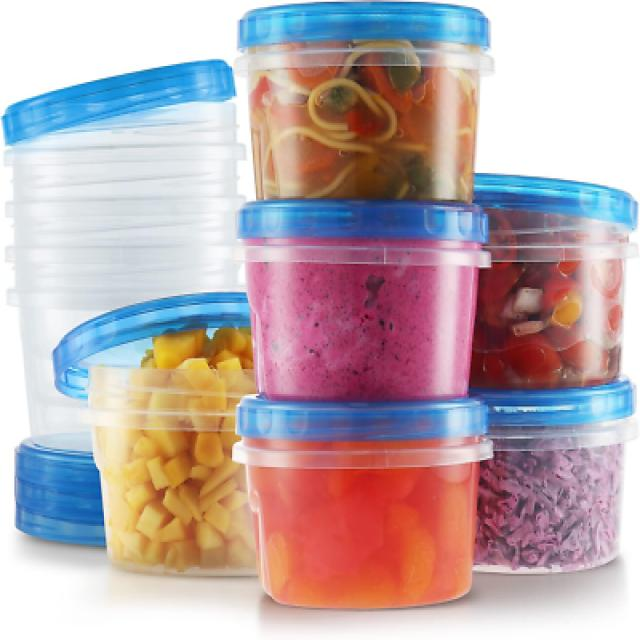plastic_box: (0, 82, 206, 467), (239, 380, 512, 636), (239, 190, 468, 392), (222, 19, 481, 191), (454, 165, 632, 382), (90, 350, 268, 566), (452, 380, 640, 576)
